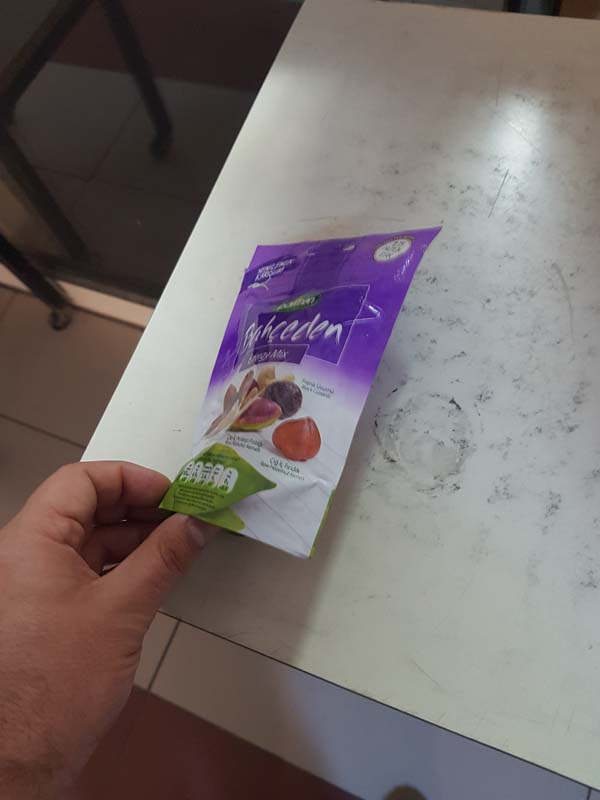bahcedenenergymix: (165, 222, 449, 559)
